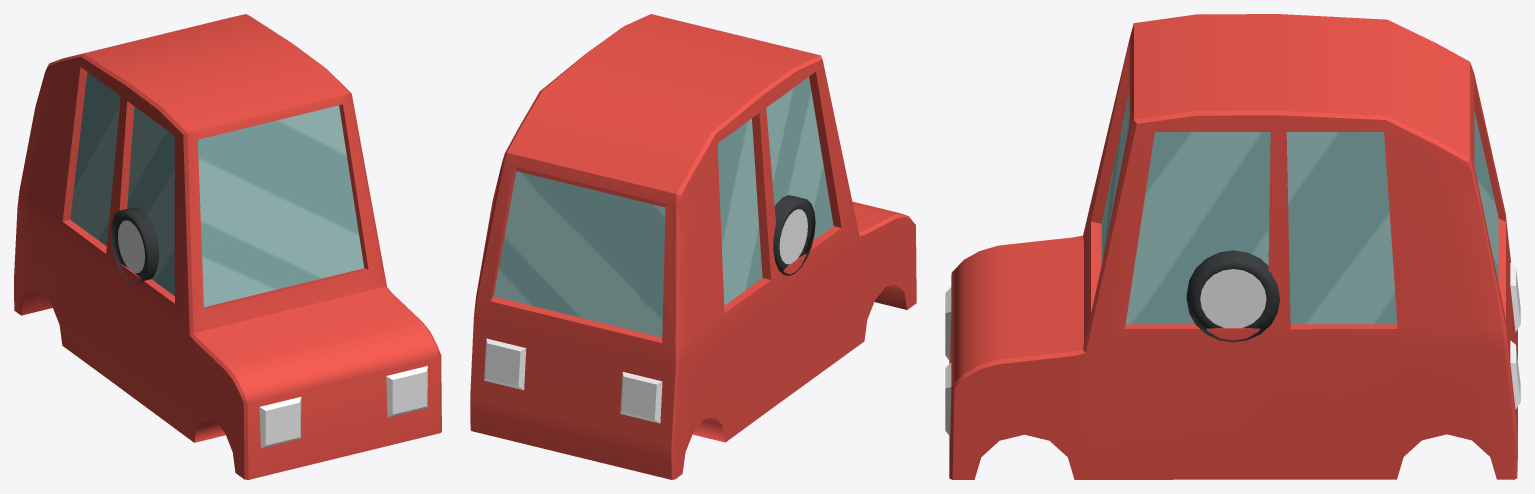
File: car_4_R.fbx
3 views of the same model, side by side, from view 1: azimuth 30°, elevation 25°; view 2: azimuth 150°, elevation 25°; view 3: azimuth 270°, elevation 25° (orthographic). The views are drawn at different scales.
Visible parts, largest first — view 1: car_4_chasis_R, car_4_back_wheel_R, car_4_right_wheel_R; view 2: car_4_chasis_R, car_4_back_wheel_R; view 3: car_4_chasis_R, car_4_left_wheel_R.
Part boxes in pixels (<box>): car_4_chasis_R: <box>14,14,441,479</box>; car_4_back_wheel_R: <box>110,207,157,284</box>; car_4_right_wheel_R: <box>126,207,158,281</box>; car_4_chasis_R: <box>470,14,916,479</box>; car_4_back_wheel_R: <box>773,195,815,275</box>; car_4_chasis_R: <box>945,14,1520,479</box>; car_4_left_wheel_R: <box>1186,250,1279,342</box>.
Size of the model in its own units: 81.53 by 117 by 169.
